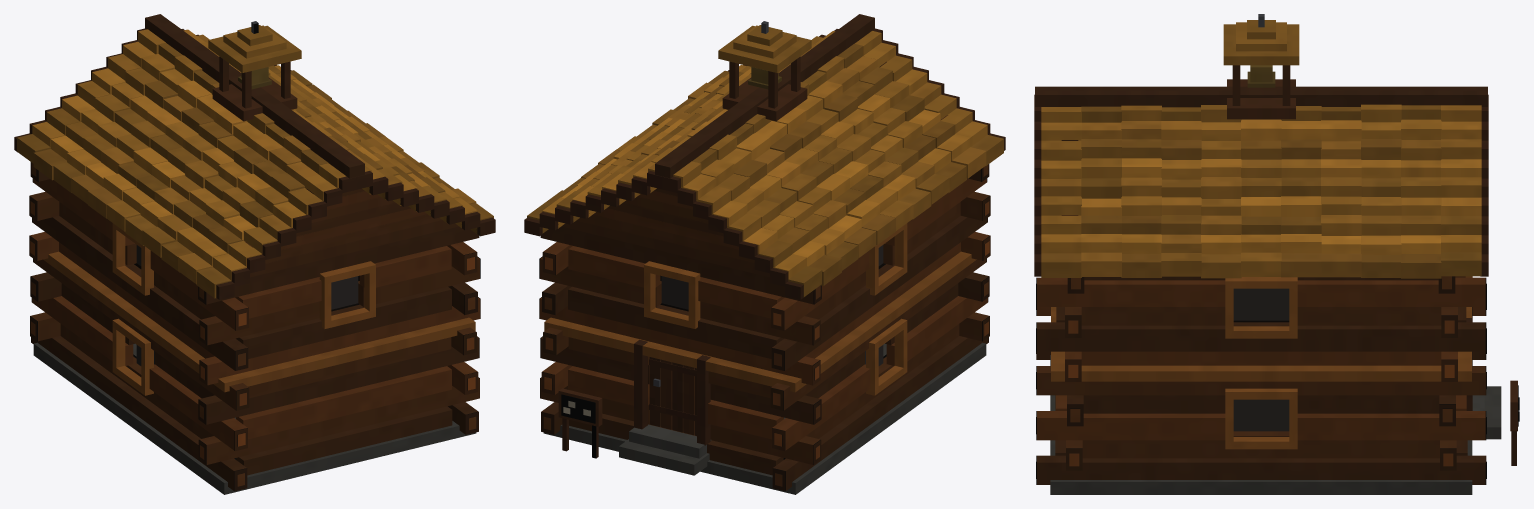
The model's file is MootHall.glb.
3 renders of one model, left to right at view 1: azimuth 30°, elevation 25°; view 2: azimuth 150°, elevation 25°; view 3: azimuth 270°, elevation 25°, orthographic. The views are drawn at different scales.
Visible parts, largest first — view 1: MootHall, MootHallGlass; view 2: MootHall, MootHallDoor, MootHallGlass; view 3: MootHall, MootHallGlass.
Part boxes in pixels (x1,y1,x2,y2): MootHall: (14, 14, 495, 494); MootHallGlass: (136, 245, 358, 365); MootHall: (524, 14, 1005, 494); MootHallDoor: (649, 357, 696, 435); MootHallGlass: (661, 245, 883, 365); MootHall: (1034, 14, 1519, 494); MootHallGlass: (1233, 288, 1289, 431).
Size of the model in its own units: 6.45 by 8.18 by 8.74.
3 materials, 2 textured.
